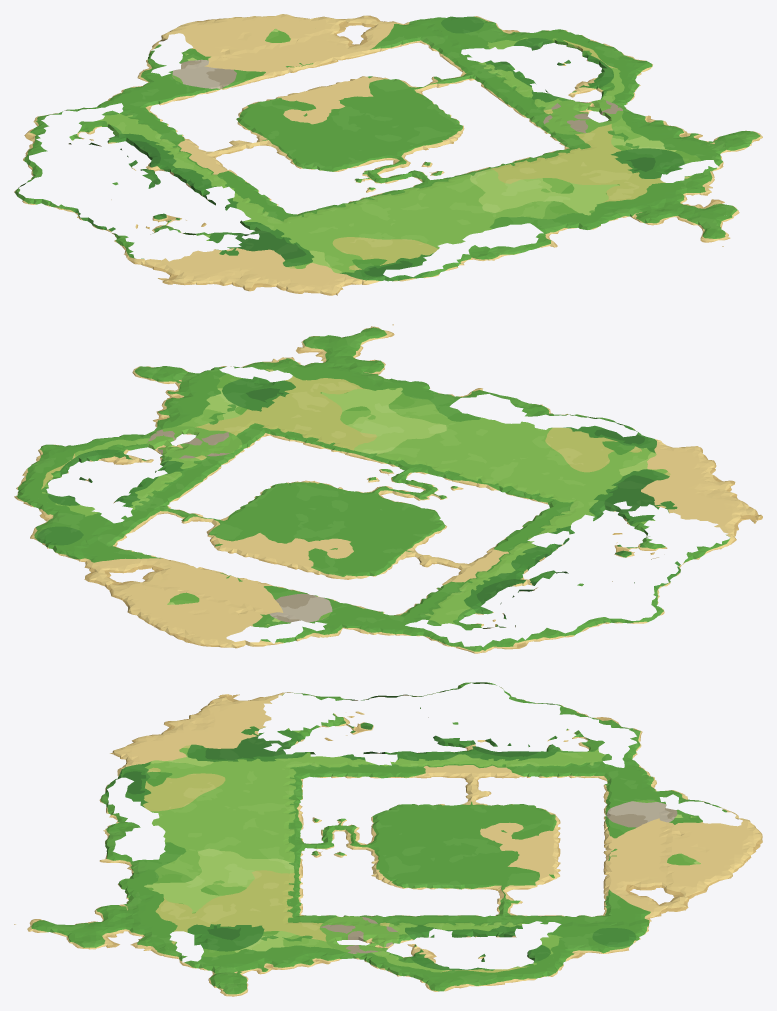
File: Isl-orc6-Ground.fbx
3 views of the same model, one above another, from view 1: azimuth 30°, elevation 25°; view 2: azimuth 150°, elevation 25°; view 3: azimuth 270°, elevation 25° (orthographic). The views are drawn at different scales.
Visible parts, largest first — view 1: Isl-orc6-Ground-c21, Isl-orc6-Ground-c11, Isl-orc6-Ground-c22, Isl-orc6-Ground-c12, Isl-orc6-Ground-c23, Isl-orc6-Ground-c13, Isl-orc6-Ground-c32, Isl-orc6-Ground-c31, Isl-orc6-Ground-c01, Isl-orc6-Ground-c02, Isl-orc6-Ground-c20; view 2: Isl-orc6-Ground-c21, Isl-orc6-Ground-c11, Isl-orc6-Ground-c22, Isl-orc6-Ground-c12, Isl-orc6-Ground-c23, Isl-orc6-Ground-c13, Isl-orc6-Ground-c32, Isl-orc6-Ground-c31, Isl-orc6-Ground-c01, Isl-orc6-Ground-c02, Isl-orc6-Ground-c20; view 3: Isl-orc6-Ground-c21, Isl-orc6-Ground-c11, Isl-orc6-Ground-c22, Isl-orc6-Ground-c12, Isl-orc6-Ground-c23, Isl-orc6-Ground-c32, Isl-orc6-Ground-c13, Isl-orc6-Ground-c31, Isl-orc6-Ground-c01, Isl-orc6-Ground-c20, Isl-orc6-Ground-c02.
Boxes of the visible parts, box(x1,y1,x2,y2) form: Isl-orc6-Ground-c21: box(383, 109, 739, 256); Isl-orc6-Ground-c11: box(155, 167, 502, 295); Isl-orc6-Ground-c22: box(250, 16, 616, 166); Isl-orc6-Ground-c12: box(26, 69, 382, 222); Isl-orc6-Ground-c23: box(187, 14, 461, 68); Isl-orc6-Ground-c13: box(33, 23, 248, 123); Isl-orc6-Ground-c32: box(494, 22, 652, 109); Isl-orc6-Ground-c31: box(617, 108, 762, 182); Isl-orc6-Ground-c01: box(114, 227, 231, 285); Isl-orc6-Ground-c02: box(14, 134, 146, 234); Isl-orc6-Ground-c20: box(692, 213, 738, 246); Isl-orc6-Ground-c21: box(162, 336, 528, 492); Isl-orc6-Ground-c11: box(406, 403, 735, 550); Isl-orc6-Ground-c22: box(30, 432, 404, 593); Isl-orc6-Ground-c12: box(266, 492, 634, 650); Isl-orc6-Ground-c23: box(37, 538, 265, 645); Isl-orc6-Ground-c13: box(199, 594, 487, 653); Isl-orc6-Ground-c32: box(14, 431, 161, 529); Isl-orc6-Ground-c31: box(132, 362, 260, 432); Isl-orc6-Ground-c01: box(649, 491, 762, 562); Isl-orc6-Ground-c02: box(517, 554, 685, 648); Isl-orc6-Ground-c20: box(325, 324, 394, 347); Isl-orc6-Ground-c21: box(75, 833, 354, 953); Isl-orc6-Ground-c11: box(99, 716, 354, 836); Isl-orc6-Ground-c22: box(351, 833, 630, 953); Isl-orc6-Ground-c12: box(351, 718, 630, 836); Isl-orc6-Ground-c23: box(627, 833, 762, 945); Isl-orc6-Ground-c32: box(352, 949, 609, 991); Isl-orc6-Ground-c13: box(627, 728, 762, 835); Isl-orc6-Ground-c31: box(155, 949, 353, 996); Isl-orc6-Ground-c01: box(189, 692, 353, 719); Isl-orc6-Ground-c20: box(14, 919, 77, 946); Isl-orc6-Ground-c02: box(352, 682, 610, 719).
Size of the model in its own units: 118 by 0.4895 by 119.
